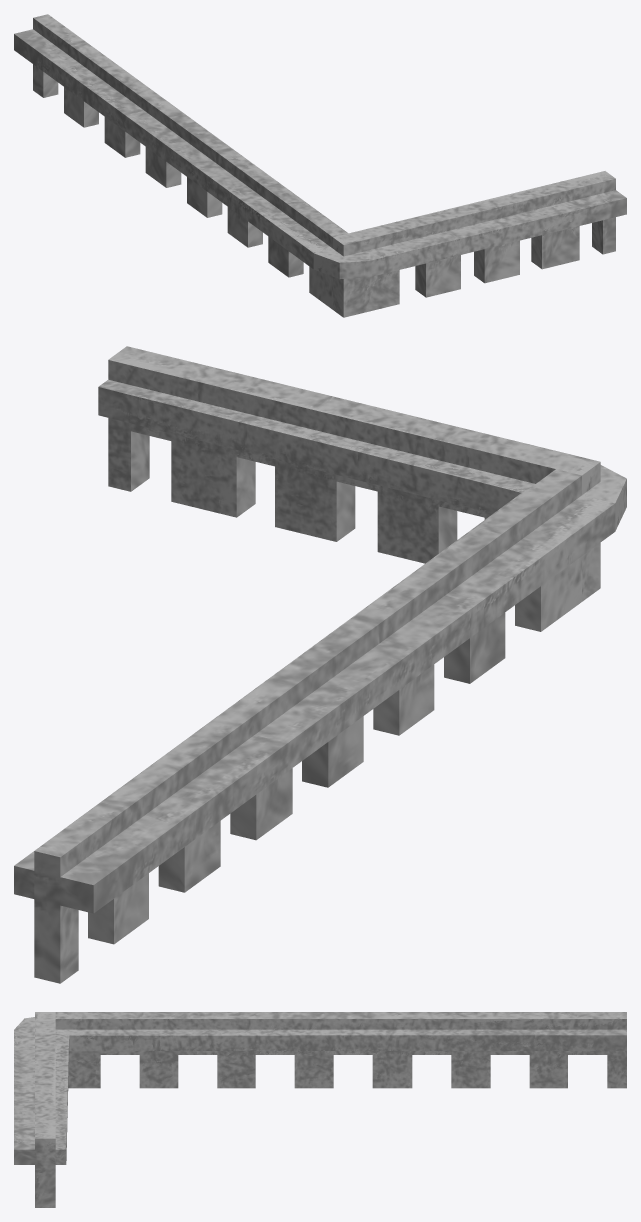
File: Castle_Barrier2.fbx
3 renders of one model, top to bottom at view 1: azimuth 30°, elevation 25°; view 2: azimuth 150°, elevation 25°; view 3: azimuth 270°, elevation 25°, orthographic. The views are drawn at different scales.
Parts seen in each view (by area): view 1: R_harang; view 2: R_harang; view 3: R_harang.
Part boxes in pixels (x1,y1,x2,y2): R_harang: [14, 14, 626, 317]; R_harang: [14, 346, 626, 983]; R_harang: [14, 1012, 626, 1207].
Size of the model in its own units: 0.0783 by 0.0187 by 0.1497.
